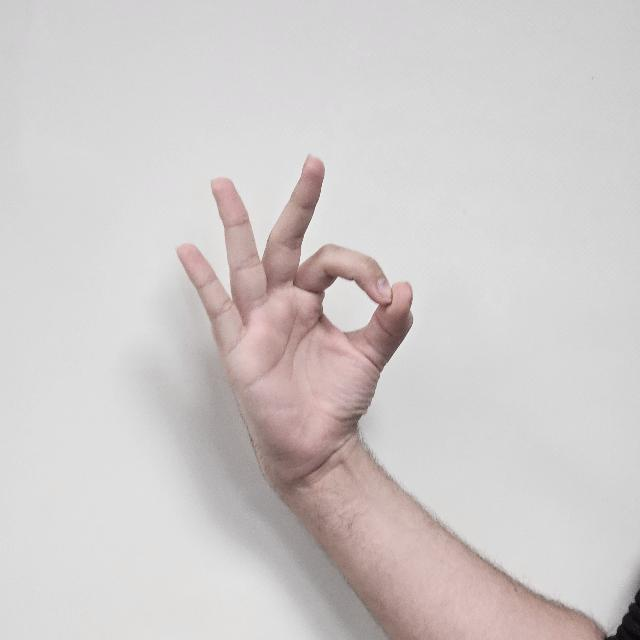Bolinha: (151, 136, 467, 542)
